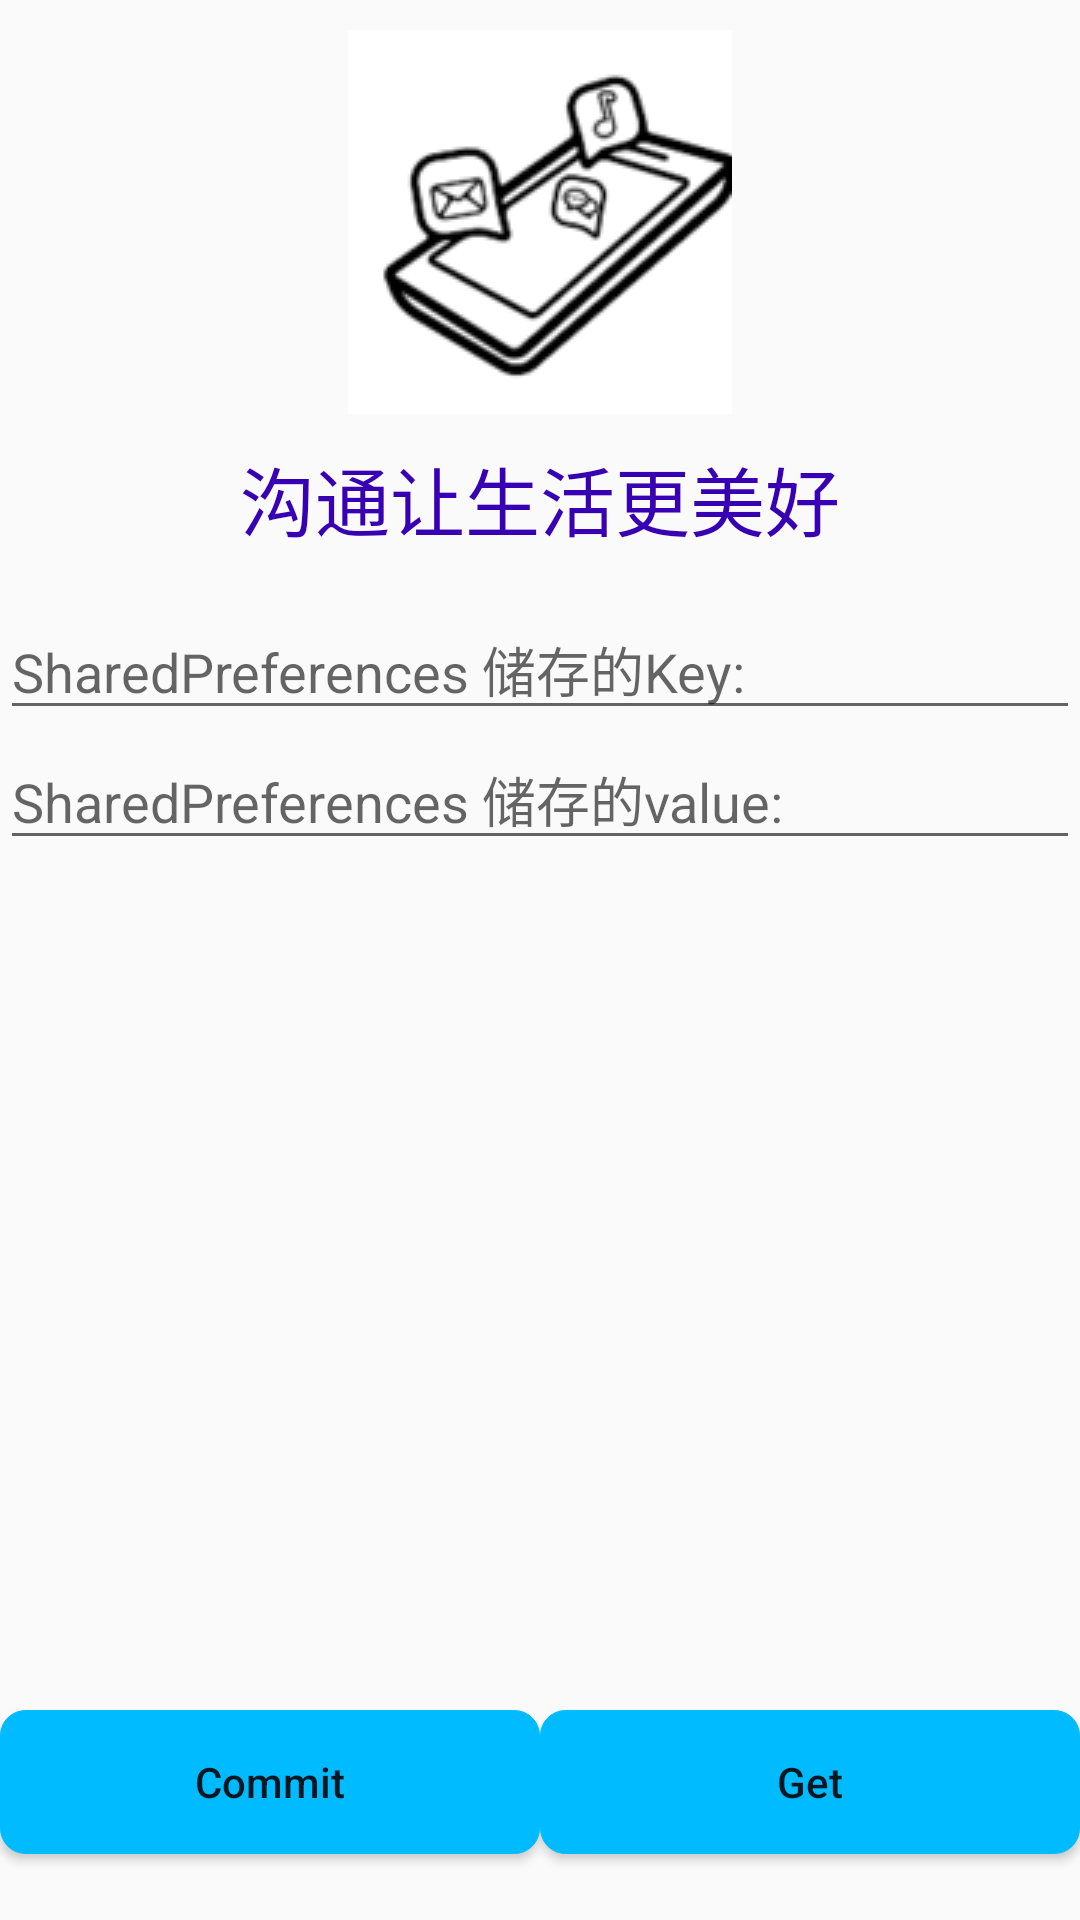

Where icons sit on this 1080*1920 app screen, as [x1, y1, x2, y2]:
phone: [383, 74, 732, 376]
